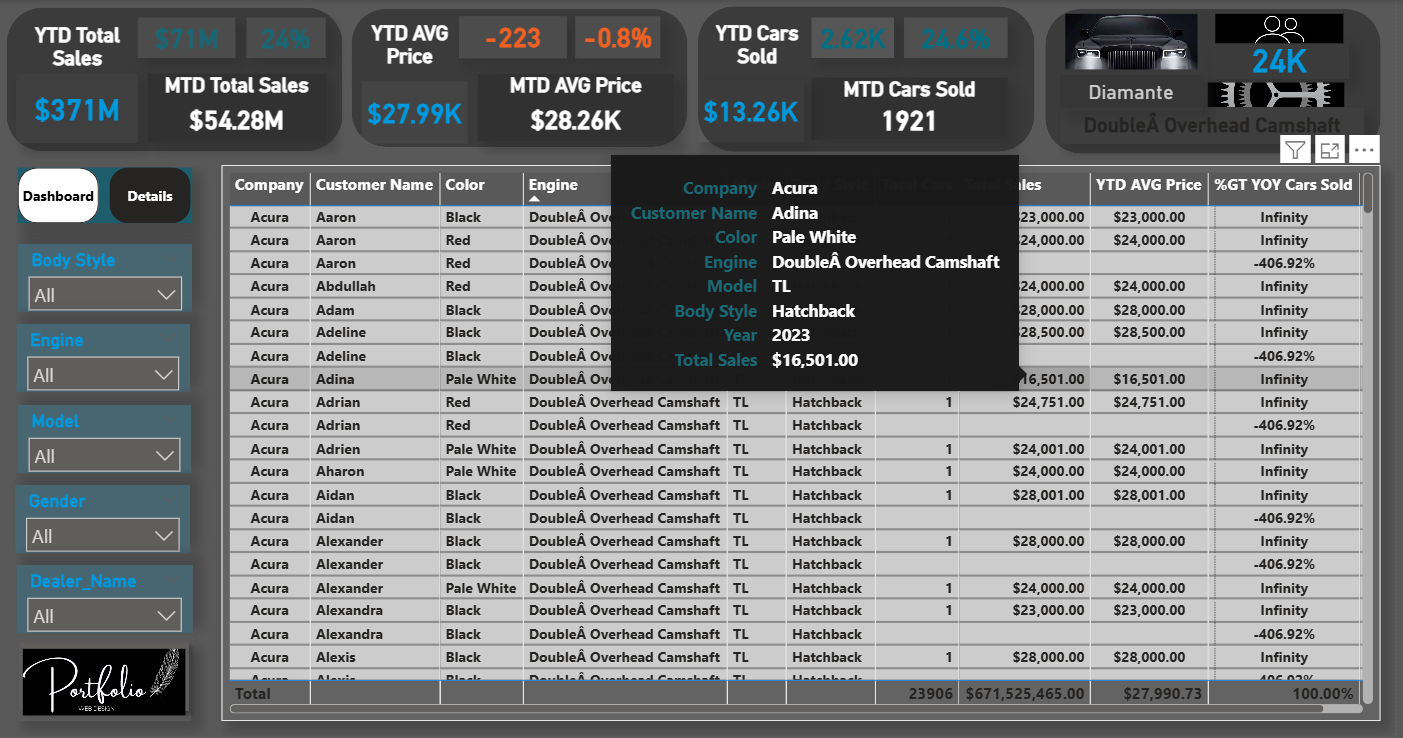

The dashboard page shown, as its layout file describes it:
{"tool":"powerbi","page":{"name":"Details ","canvas":[1331,699],"ordinal":1},"visuals":[{"type":"shape","box":[668.1,6.2,319.7,138.1],"z":0},{"type":"shape","box":[12.1,7.3,319.2,136.6],"z":1000},{"type":"shape","box":[340,7.9,319,131.3],"z":2000},{"type":"shape","box":[998.1,7.9,318.7,137.7],"z":3000},{"type":"card","fields":{"Values":["- ALL Measures.YTD Total Sales"]},"box":[21,70,115.5,65.6],"z":4000},{"type":"card","fields":{"Values":["- ALL Measures.Sales Diff"]},"box":[136.6,16.9,93.1,38.7],"z":5000},{"type":"card","fields":{"Values":["- ALL Measures.YOY  Total Sales"]},"box":[239.4,16.9,75,38.7],"z":6000},{"type":"card","title":"MTD Total Sales","fields":{"Values":["- ALL Measures.MTD Total Sales"]},"box":[145.6,70.5,169.2,64.7],"z":7000},{"type":"textbox","box":[21.2,17.4,115.7,53.5],"z":8000},{"type":"card","fields":{"Values":["- ALL Measures.YTD AVG Price"]},"box":[349.2,76.8,101.1,59.1],"z":9000},{"type":"card","fields":{"Values":["- ALL Measures.AVG Price Diff"]},"box":[441.2,15.3,102.3,39.6],"z":10000},{"type":"card","fields":{"Values":["- ALL Measures.YOY AVG Price"]},"box":[552.5,15.3,80.6,39.6],"z":11000},{"type":"textbox","box":[349.2,15.8,91.9,53.8],"z":12000},{"type":"card","title":"MTD AVG Price","fields":{"Values":["- ALL Measures.MTD AVG Price"]},"box":[459.5,69.6,186.4,64.3],"z":13000},{"type":"card","fields":{"Values":["- ALL Measures.YTD Cars Sold"]},"box":[668.3,75.5,101.1,59.1],"z":14000},{"type":"card","fields":{"Values":["- ALL Measures.Cars Sold Diff"]},"box":[775.9,17.1,78.8,38.1],"z":15000},{"type":"card","fields":{"Values":["- ALL Measures.YOY Cars Sold"]},"box":[863.9,17.1,98.5,38.1],"z":16000},{"type":"card","title":"MTD Cars Sold","fields":{"Values":["- ALL Measures.MTD Cars Sold"]},"box":[775.9,73.5,186.4,59.1],"z":17000},{"type":"card","title":"Total Customers","fields":{"Values":["- ALL Measures.TOTAL Customers"]},"box":[1155.4,38,131.6,36.7],"z":18000},{"type":"textbox","box":[680.1,15.8,89.3,61.7],"z":19000},{"type":"card","title":"TOP Engine","fields":{"Values":["- ALL Measures.Top Engine"]},"box":[1012.2,102.4,288.8,34.1],"z":20000},{"type":"image","box":[1147.6,73.4,139,32.8],"z":21000},{"type":"card","fields":{"Values":["- ALL Measures.Top Model"]},"box":[1012.5,70.8,135.1,32.8],"z":22000},{"type":"image","box":[1012.5,7.9,135.1,63],"z":23000},{"type":"image","box":[1155.5,7.9,131.2,38],"z":24000},{"type":"tableEx","fields":{"Values":["car_data.Company","car_data.Customer Name","car_data.Color","car_data.Engine","car_data.Model","car_data.Body Style","- ALL Measures.Total Cars","- ALL Measures.Total Sales","- ALL Measures.YTD AVG Price","- ALL Measures.YOY Cars Sold","Dates.Date.Variation.Date Hierarchy.Year"]},"box":[211.6,159.6,1089.4,528.4],"z":25000},{"type":"slicer","fields":{"Values":["car_data.Body Style"]},"box":[22.8,231.6,165.8,64.5],"z":26000},{"type":"slicer","fields":{"Values":["car_data.Gender"]},"box":[20.2,460.3,165.8,64.5],"z":27000},{"type":"slicer","fields":{"Values":["car_data.Engine"]},"box":[21.5,307.8,164.5,64.5],"z":28000},{"type":"slicer","fields":{"Values":["car_data.Model"]},"box":[22.8,384.1,164.5,64.5],"z":29000},{"type":"slicer","fields":{"Values":["car_data.Dealer_Name"]},"box":[21.5,536.6,167,64.5],"z":30000},{"type":"shape","box":[16.5,601.1,177.2,83.5],"z":31000},{"type":"image","box":[22.8,611.2,164.5,73.4],"z":32000},{"type":"pageNavigator","box":[22.8,159.4,165.8,53.1],"z":34000}]}

Visuals, with their boxes in screenshot pixels (x1, y1, x2, y2), scaled from the page's 1331x699 canvas onto the 1403x738 screenshot:
shape: BBox(704, 7, 1041, 152)
shape: BBox(13, 8, 349, 152)
shape: BBox(358, 8, 695, 147)
shape: BBox(1052, 8, 1388, 154)
card - - ALL Measures.YTD Total Sales: BBox(22, 74, 144, 143)
card - - ALL Measures.Sales Diff: BBox(144, 18, 242, 59)
card - - ALL Measures.YOY  Total Sales: BBox(252, 18, 331, 59)
"MTD Total Sales" card: BBox(153, 74, 332, 143)
textbox: BBox(22, 18, 144, 75)
card - - ALL Measures.YTD AVG Price: BBox(368, 81, 475, 143)
card - - ALL Measures.AVG Price Diff: BBox(465, 16, 573, 58)
card - - ALL Measures.YOY AVG Price: BBox(582, 16, 667, 58)
textbox: BBox(368, 17, 465, 73)
"MTD AVG Price" card: BBox(484, 73, 681, 141)
card - - ALL Measures.YTD Cars Sold: BBox(704, 80, 811, 142)
card - - ALL Measures.Cars Sold Diff: BBox(818, 18, 901, 58)
card - - ALL Measures.YOY Cars Sold: BBox(911, 18, 1014, 58)
"MTD Cars Sold" card: BBox(818, 78, 1014, 140)
"Total Customers" card: BBox(1218, 40, 1357, 79)
textbox: BBox(717, 17, 811, 82)
"TOP Engine" card: BBox(1067, 108, 1371, 144)
image: BBox(1210, 77, 1356, 112)
card - - ALL Measures.Top Model: BBox(1067, 75, 1210, 109)
image: BBox(1067, 8, 1210, 75)
image: BBox(1218, 8, 1356, 48)
tableEx - car_data.Company x car_data.Customer Name: BBox(223, 169, 1371, 726)
slicer - car_data.Body Style: BBox(24, 245, 199, 313)
slicer - car_data.Gender: BBox(21, 486, 196, 554)
slicer - car_data.Engine: BBox(23, 325, 196, 393)
slicer - car_data.Model: BBox(24, 406, 197, 474)
slicer - car_data.Dealer_Name: BBox(23, 567, 199, 635)
shape: BBox(17, 635, 204, 723)
image: BBox(24, 645, 197, 723)
pageNavigator: BBox(24, 168, 199, 224)
